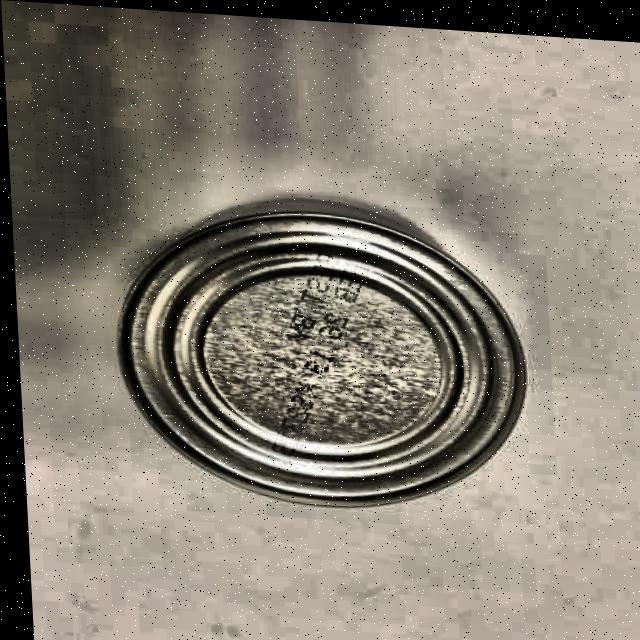metal: (106, 196, 535, 523)
